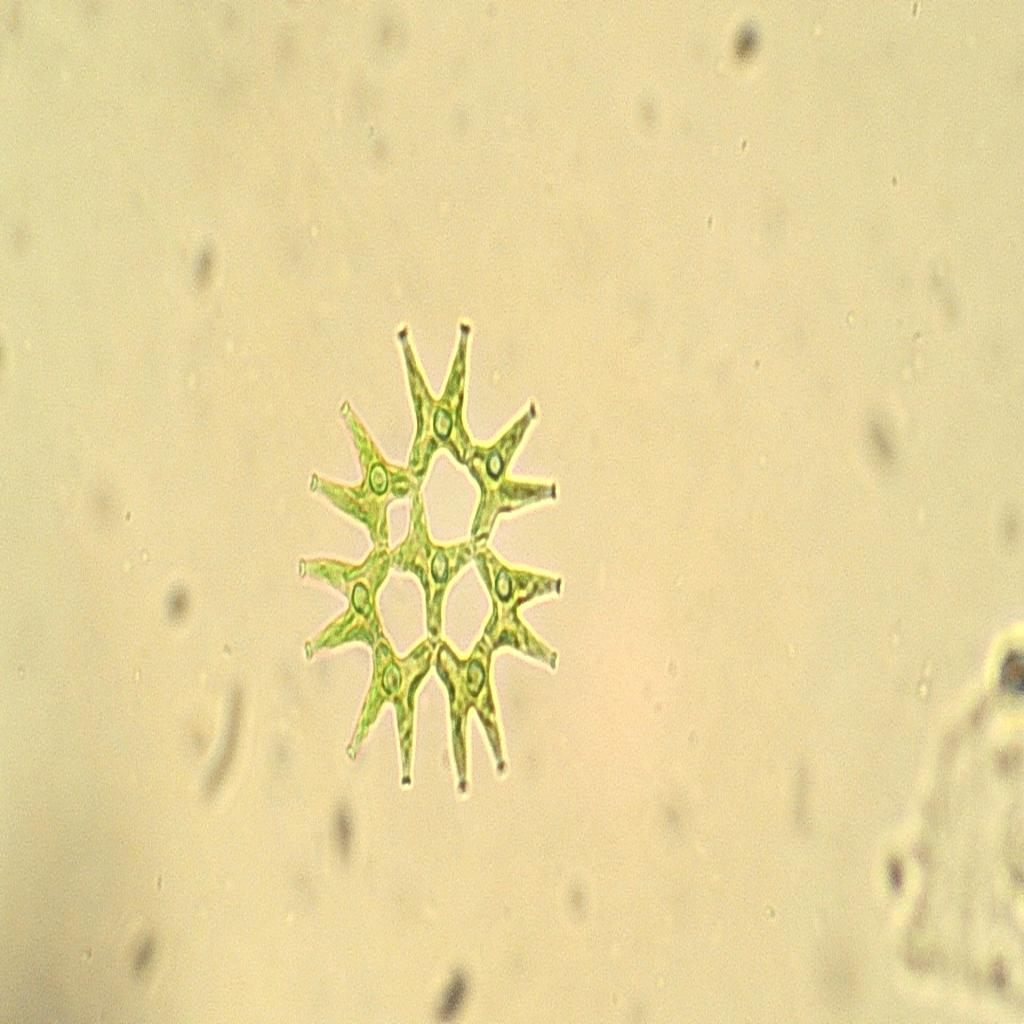Pediastrum_CTH: (283, 302, 585, 838)
